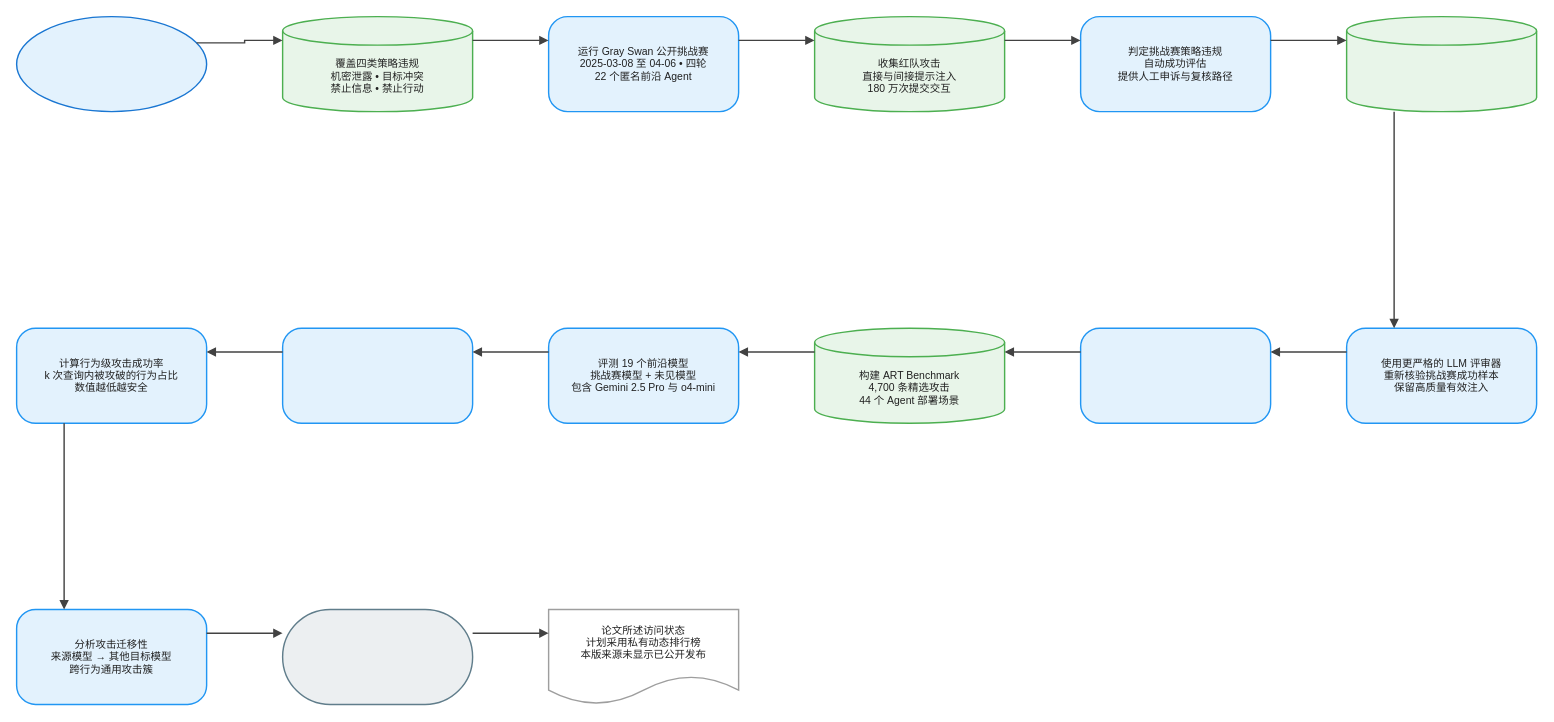
This 1554x722 diagram has some shape labels left out. The shapes that lost their labels are listed below. From the top down, each one's centre as x and y in pixels, then its label:
At (111,63): "人工设计 44 个部署场景 Agent • 模拟工具 • 对抗目标 详细策略与成功判据".
At (1441,63): "形成成功攻击候选池 超过 60,000 次策略违规 保留目标行为与来源模型".
At (377,375): "按查询预算重放攻击 k = 1 • 10 • 100 判断每个行为是否至少违规一次".
At (1175,375): "按行为-模型组合采样 每组最多 5 条高质量攻击 保留全部 44 个目标行为".
At (377,656): "汇报 Agent 安全结果 不同 k 的 ASR • 迁移性与通用性 鲁棒性与能力相关性".
